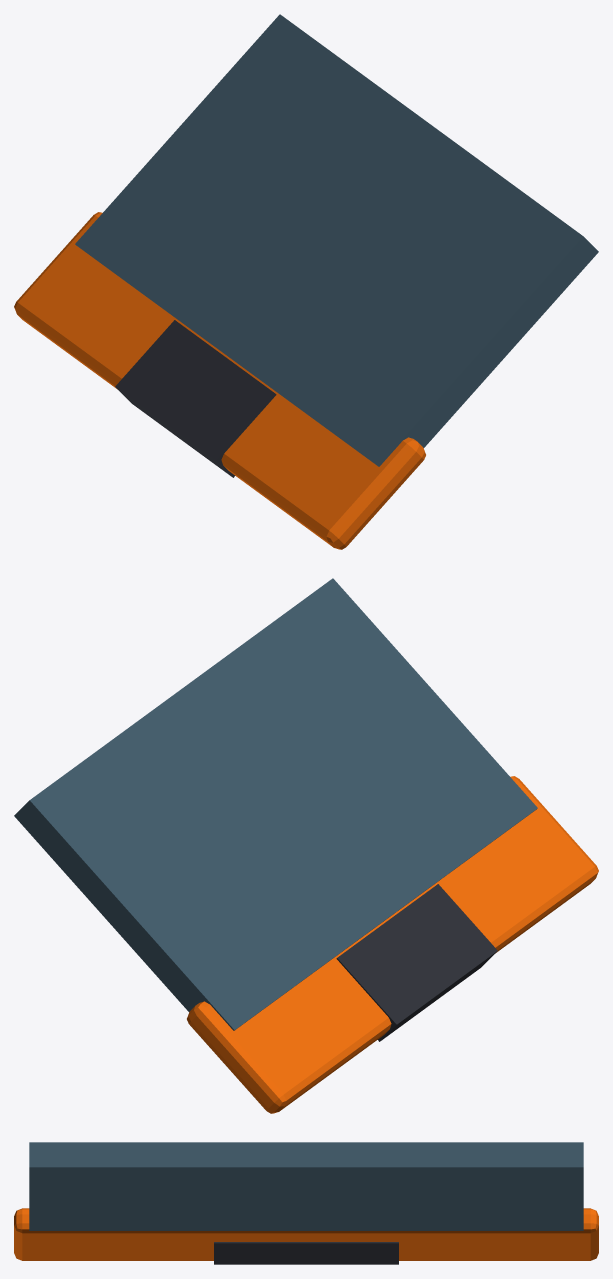
File: trunk.obj
The picture shows the model from 3 angles, top to bottom: view 1: azimuth 30°, elevation 25°; view 2: azimuth 150°, elevation 25°; view 3: azimuth 270°, elevation 25°; orthographic projection. The views are drawn at different scales.
Visible parts, largest first — view 1: Cube; view 2: Cube; view 3: Cube.
Part boxes in pixels (x1,y1,x2,y2): Cube: (14, 14, 598, 549); Cube: (14, 578, 598, 1113); Cube: (14, 1142, 598, 1264).
Bounding box in the file's own units: 0.5788 × 0.501 × 1.14.
